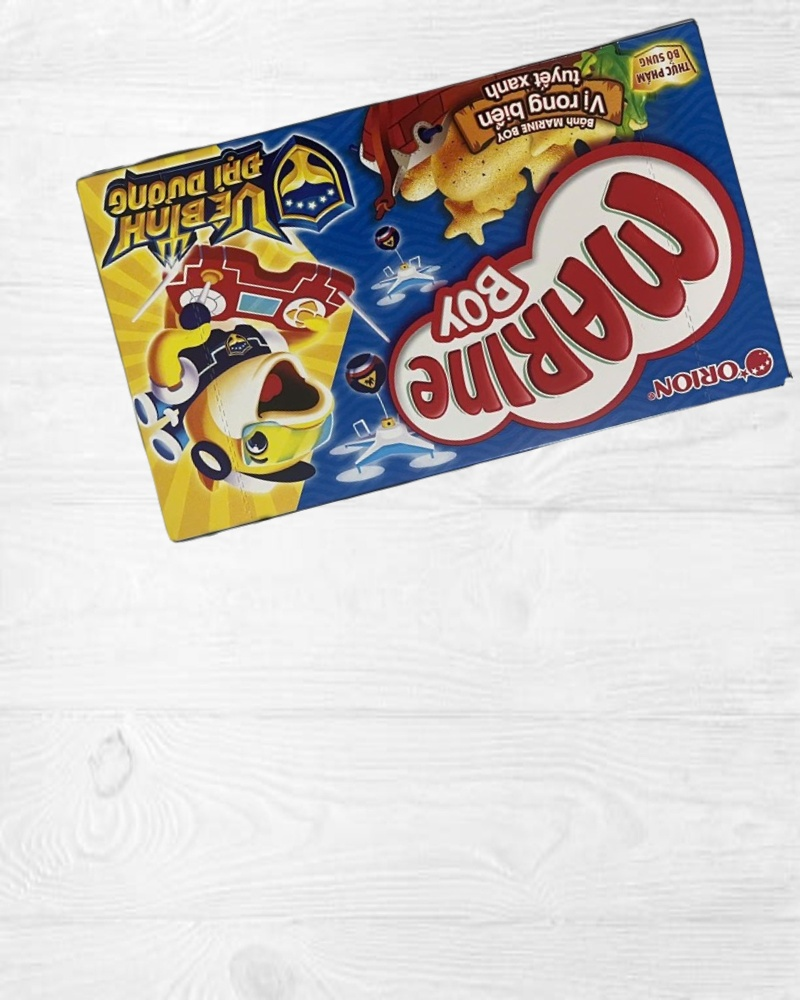Marine: (72, 13, 794, 549)
